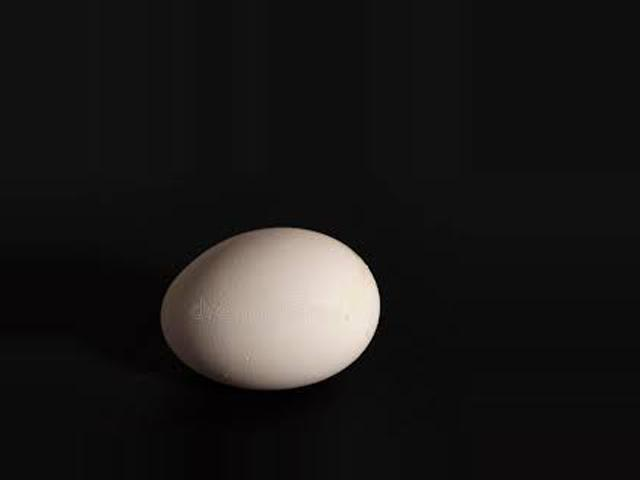egg: (161, 228, 382, 388)
